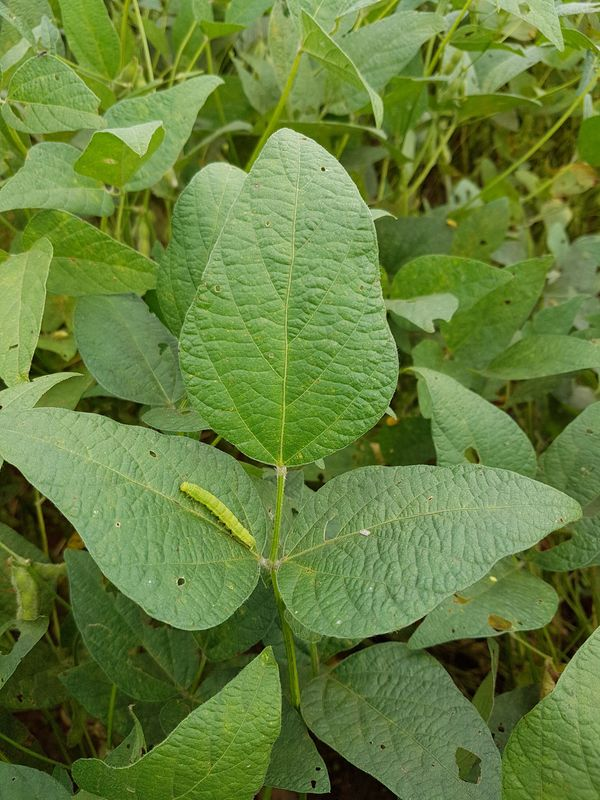Anticarsia_gemmatalis: (170, 474, 260, 558)
